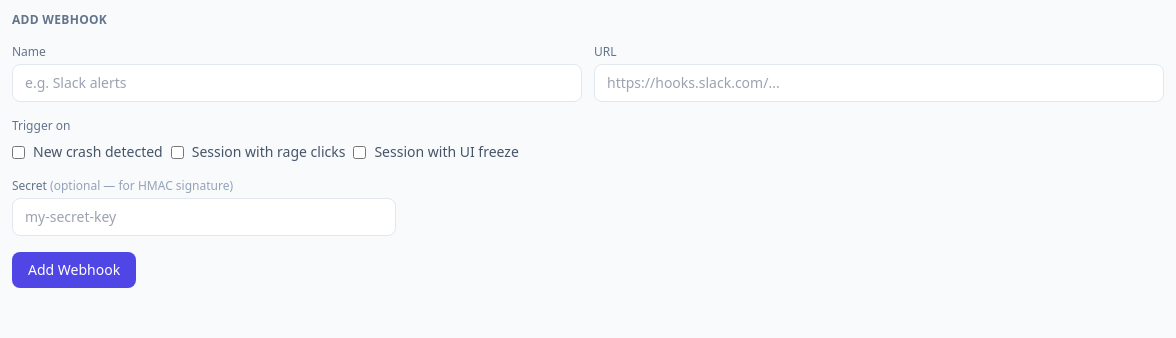
Test: WebhookForm › shows error when name is missing
Click the button with test id "webhook-save-button" at (74, 270), box [12,252,136,288]
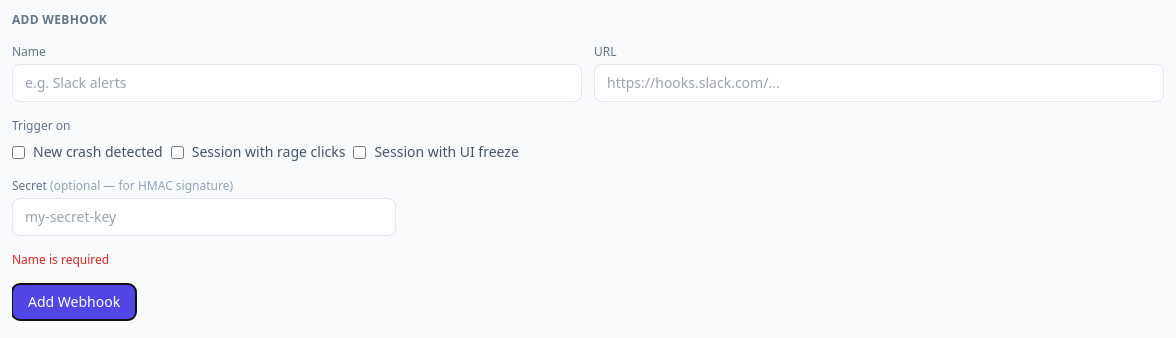
Check: the text with test id "webhook-error" shows "Name", box [12,251,109,268]
